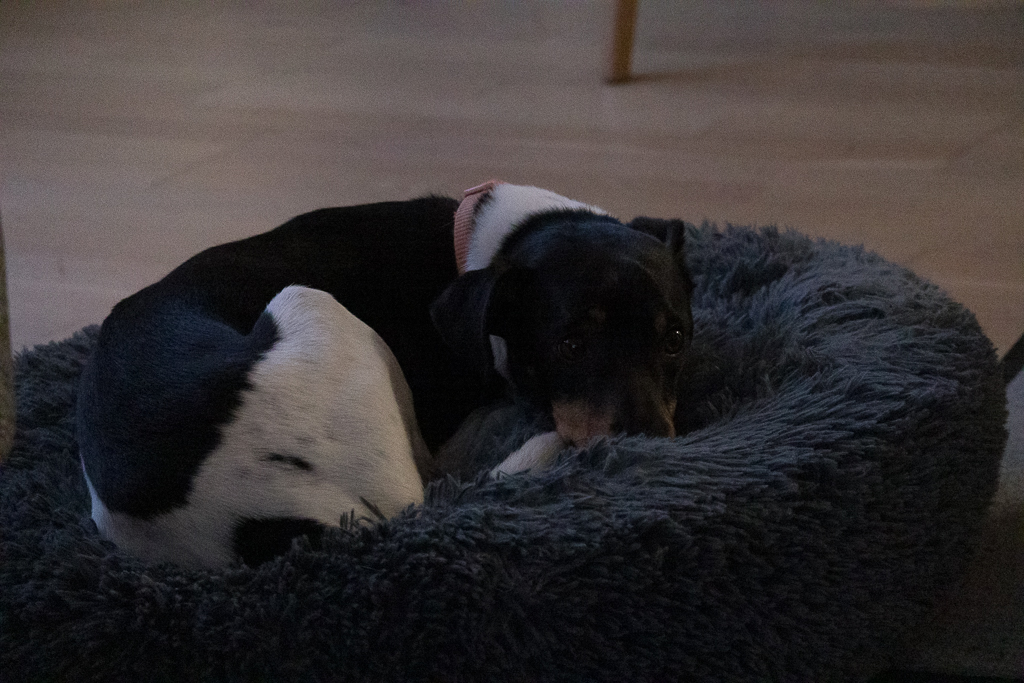Dog: (64, 167, 712, 583)
